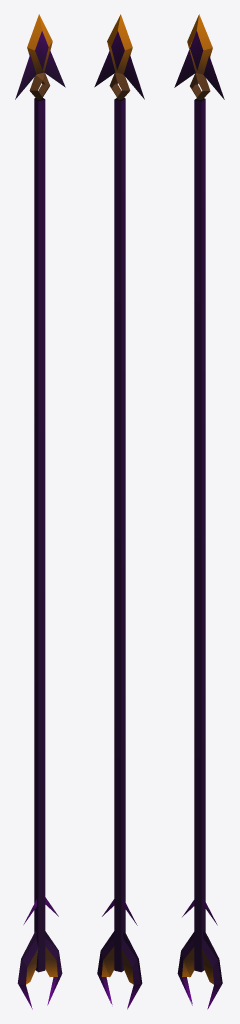
Rendered from Arrow_Runic.fbx.
The picture shows the model from 3 angles, left to right: view 1: azimuth 30°, elevation 25°; view 2: azimuth 150°, elevation 25°; view 3: azimuth 330°, elevation 25°; orthographic projection.
Visible parts, largest first — view 1: Arrow_Runic; view 2: Arrow_Runic; view 3: Arrow_Runic.
Part boxes in pixels (x1,y1,x2,y2): Arrow_Runic: [15, 14, 65, 1009]; Arrow_Runic: [94, 14, 144, 1009]; Arrow_Runic: [174, 14, 224, 1009].
Bounding box in the file's own units: 21.86 × 409 × 4.11.
